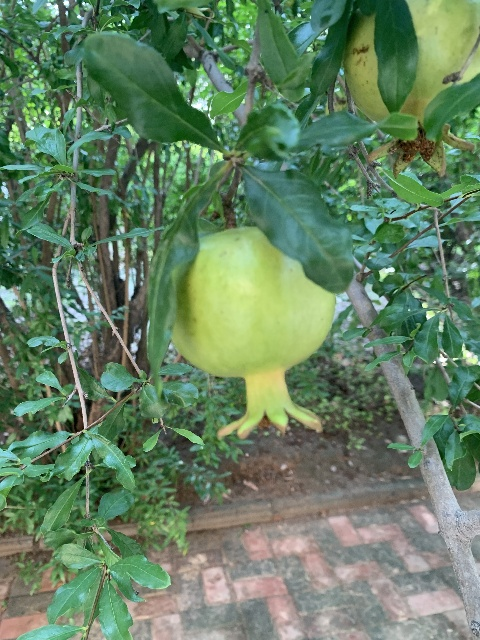mid-growth: (172, 227, 334, 442), (343, 0, 480, 177)
